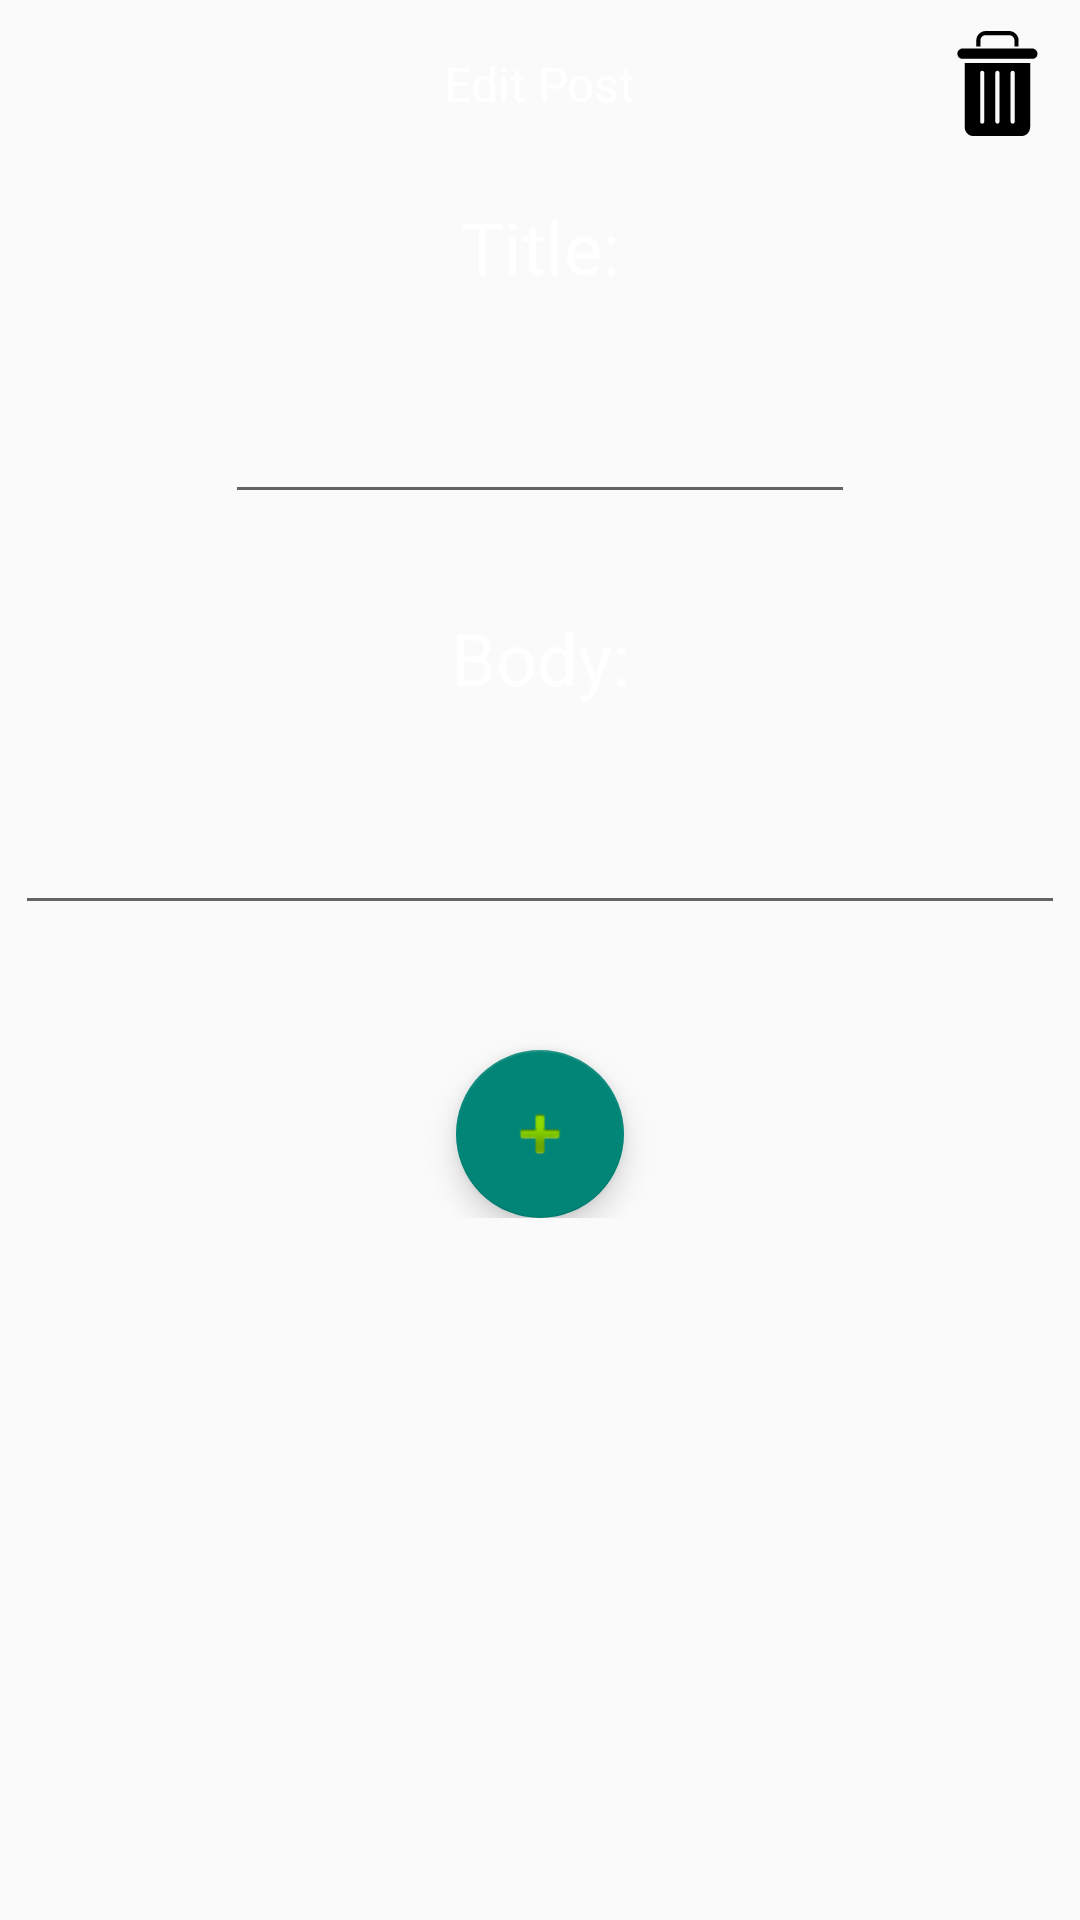

Named icons in this screenshot (1080 × 1920) and their bounding boxes, (x1, y1, x2, y2):
add: (456, 1050, 624, 1218)
bin: (957, 31, 1038, 136)
